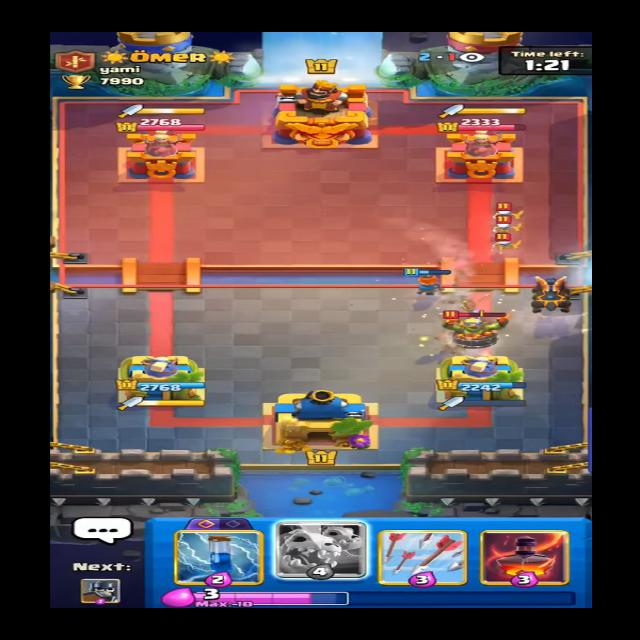Goblindemolisher: (424, 308, 522, 346)
Skeleton: (487, 228, 518, 255), (491, 215, 519, 236), (495, 200, 522, 220)
